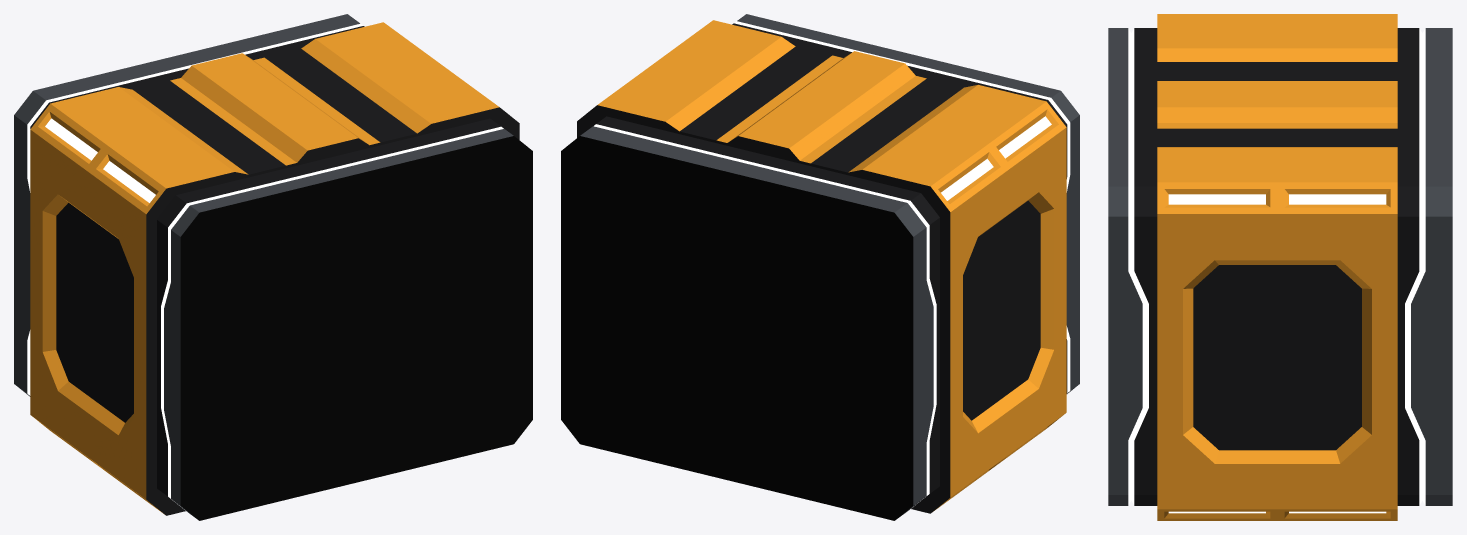
File: SM_Coveyor_elevator-1m.glb
The picture shows the model from 3 angles, left to right: view 1: azimuth 30°, elevation 25°; view 2: azimuth 150°, elevation 25°; view 3: azimuth 270°, elevation 25°; orthographic projection. The views are drawn at different scales.
Visible parts, largest first — view 1: SM_Coveyor_elevator-1m; view 2: SM_Coveyor_elevator-1m; view 3: SM_Coveyor_elevator-1m.
Boxes of the visible parts, <box> form: SM_Coveyor_elevator-1m: <box>14,14,532,520</box>; SM_Coveyor_elevator-1m: <box>561,14,1079,520</box>; SM_Coveyor_elevator-1m: <box>1108,14,1452,520</box>.
Bounding box in the file's own units: 1.29 × 1.11 × 1.
Materials: 2 (1 with a texture image).
